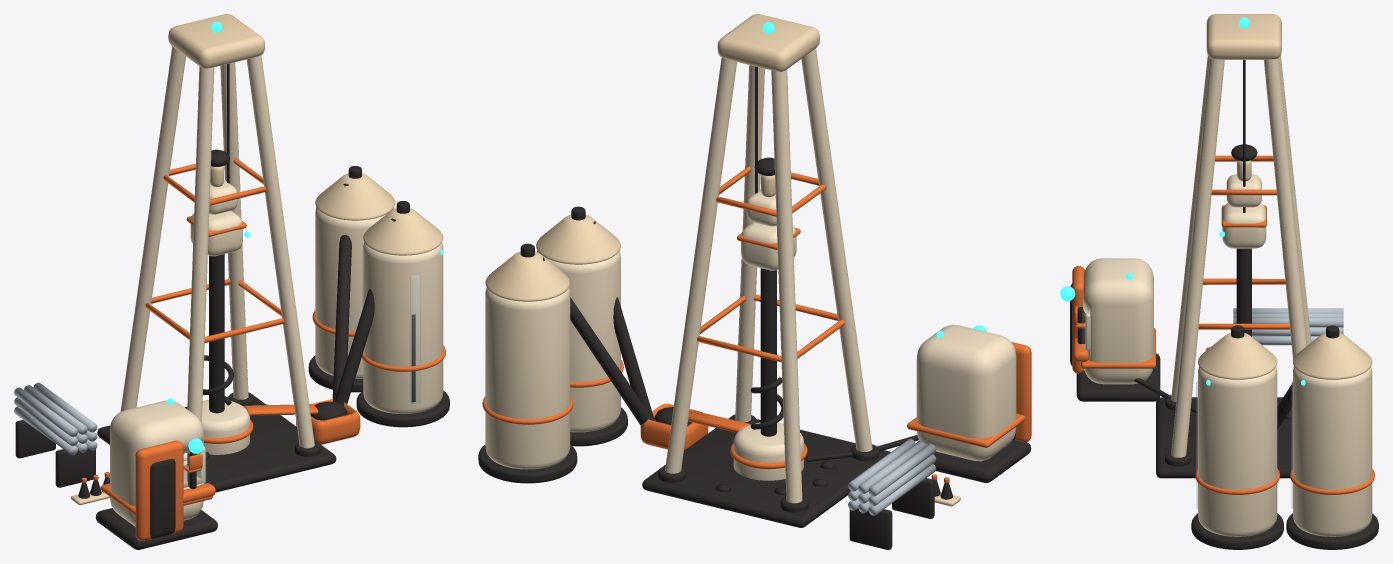
Rendered from drill-20.glb.
3 renders of one model, left to right at view 1: azimuth 30°, elevation 25°; view 2: azimuth 150°, elevation 25°; view 3: azimuth 270°, elevation 25°, orthographic. The views are drawn at different scales.
Visible parts, largest first — view 1: Cube.002, Cone.002, Cube.003, Cone, Cylinder.013, Cube.007; view 2: Cube.002, Cone.002, Cone, Cube.003, Cylinder.013; view 3: Cube.002, Cone.002, Cone, Cube.003, Cylinder.013, Cube.007, Cube.024.
Part boxes in pixels (<box>): Cube.002: <box>110,46,443,526</box>; Cone.002: <box>15,63,449,549</box>; Cube.003: <box>81,158,445,540</box>; Cone: <box>71,14,443,505</box>; Cylinder.013: <box>14,382,97,455</box>; Cube.007: <box>183,241,420,488</box>; Cube.002: <box>485,48,1016,503</box>; Cone.002: <box>478,66,1031,549</box>; Cone: <box>485,14,960,506</box>; Cube.003: <box>482,166,1031,483</box>; Cylinder.013: <box>848,439,936,515</box>; Cube.002: <box>1083,55,1372,536</box>; Cone.002: <box>1070,60,1378,549</box>; Cone: <box>1198,14,1372,379</box>; Cube.003: <box>1072,155,1374,494</box>; Cylinder.013: <box>1233,308,1343,345</box>; Cube.007: <box>1082,303,1292,508</box>; Cube.024: <box>1060,17,1305,385</box>.
Bounding box in the file's own units: 2.02 × 2.13 × 1.44.
